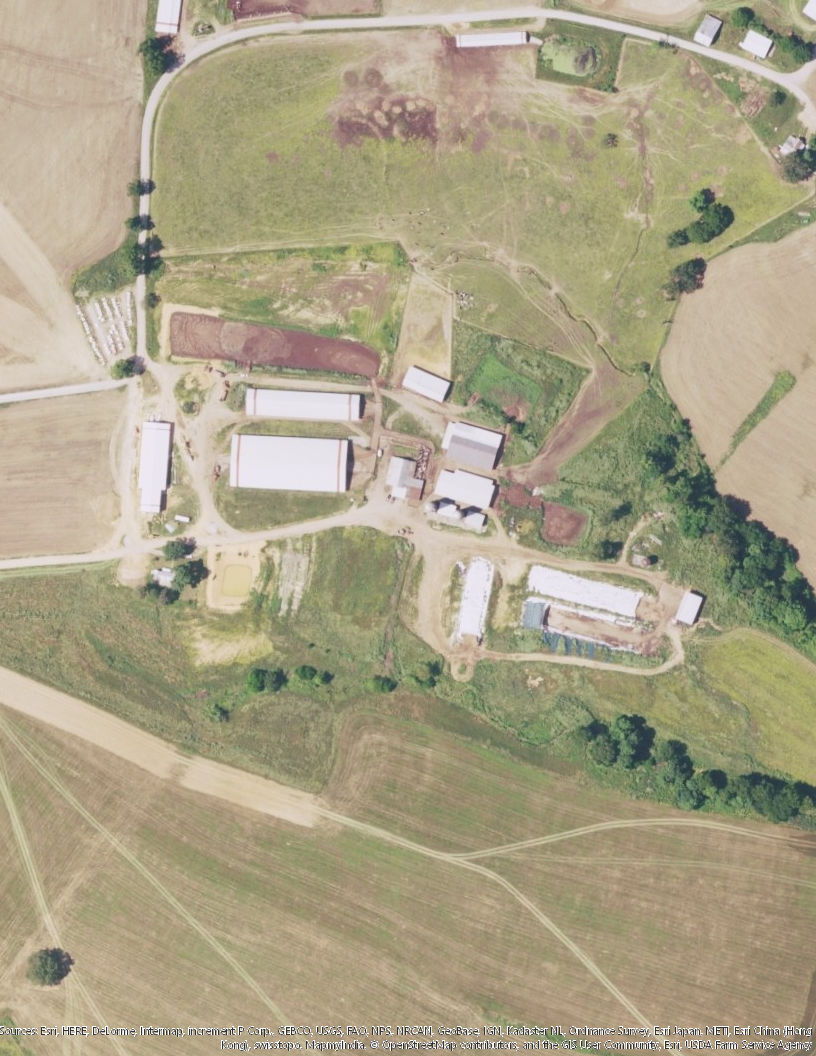cafo: (519, 559, 670, 645), (223, 430, 362, 497), (233, 383, 367, 425), (452, 553, 503, 645), (132, 418, 177, 521), (436, 415, 509, 472), (430, 464, 504, 518), (400, 361, 457, 407)
